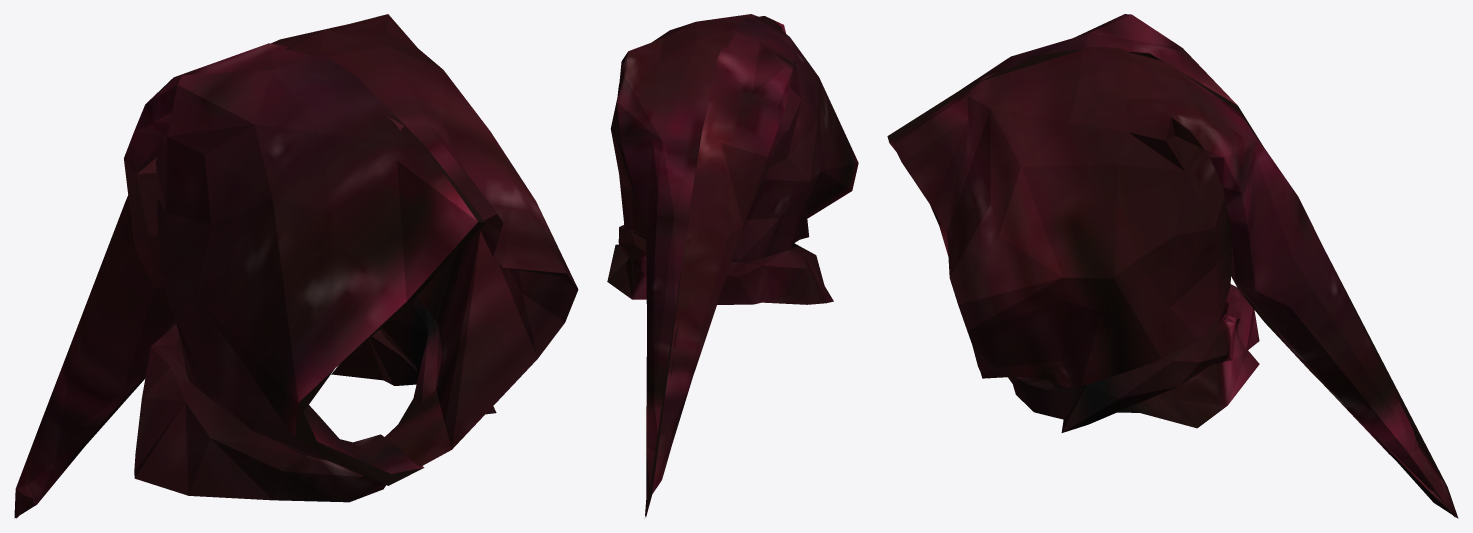
The model's file is GIERMEK.glb.
3 renders of one model, left to right at view 1: azimuth 30°, elevation 25°; view 2: azimuth 150°, elevation 25°; view 3: azimuth 270°, elevation 25°, orthographic. The views are drawn at different scales.
Visible parts, largest first — view 1: GIERMEK; view 2: GIERMEK; view 3: GIERMEK.
Boxes of the visible parts, bbox=[...] form: GIERMEK: bbox=[14, 14, 578, 518]; GIERMEK: bbox=[607, 14, 858, 518]; GIERMEK: bbox=[887, 14, 1458, 518].
Bounding box in the file's own units: 0.3317 × 0.5433 × 0.5576.
Materials: 1 (1 with a texture image).
